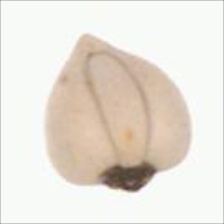L5: (83, 47, 156, 165), (89, 161, 164, 195), (68, 31, 117, 64)
L6: (34, 26, 197, 195)
